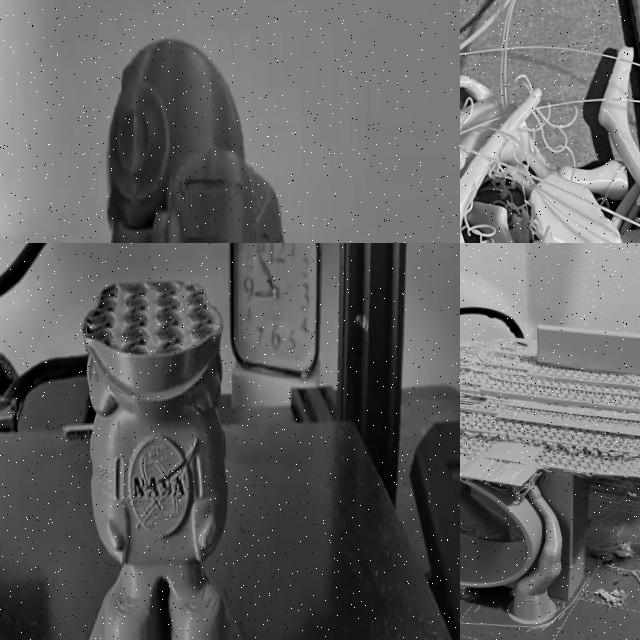spaghetti: (460, 0, 640, 243), (586, 541, 640, 571), (586, 584, 637, 614)
